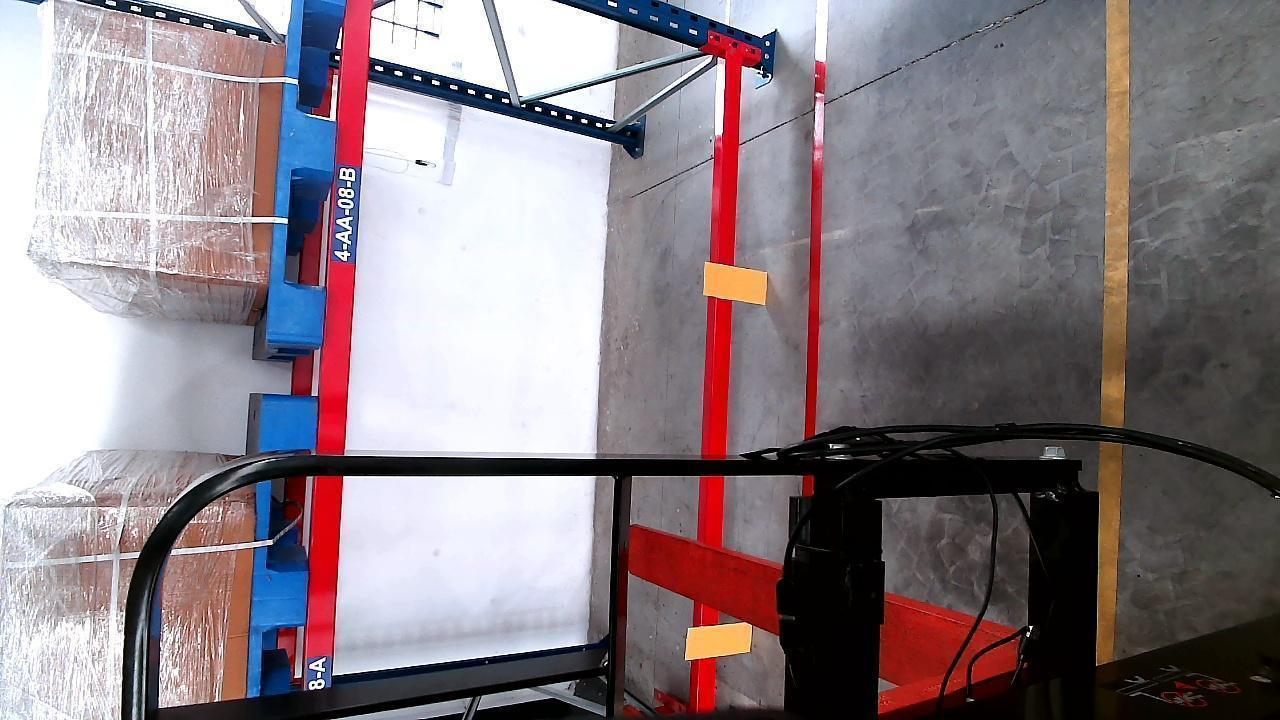red_line: (805, 16, 829, 433)
yellow_line: (1095, 0, 1135, 663)
